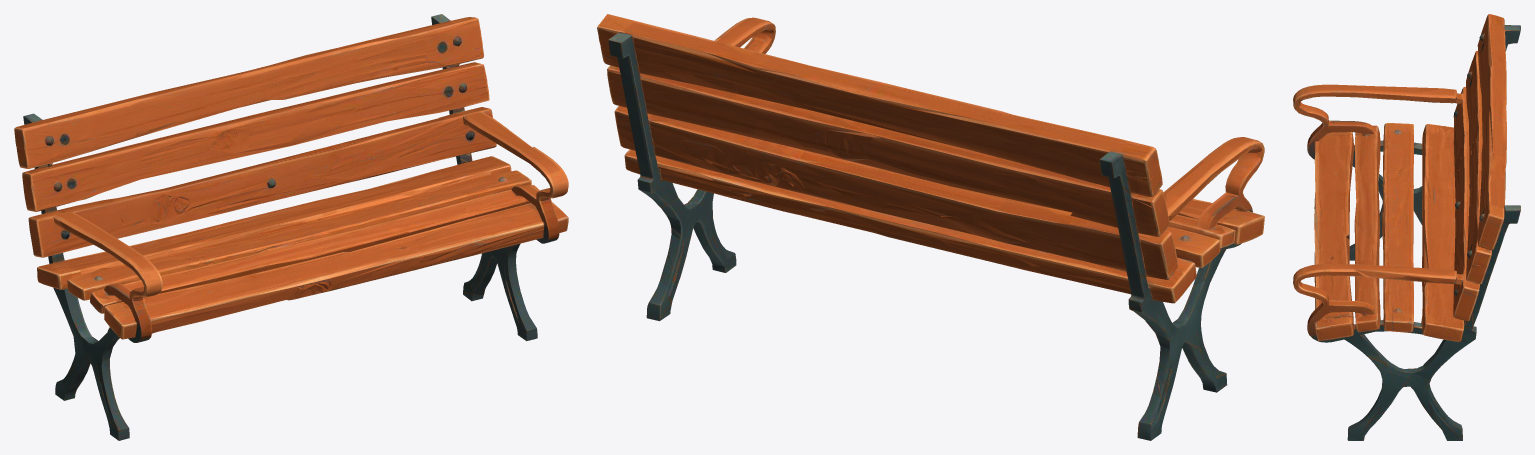
The model's file is bench.glb.
3 renders of one model, left to right at view 1: azimuth 30°, elevation 25°; view 2: azimuth 150°, elevation 25°; view 3: azimuth 270°, elevation 25°, orthographic. The views are drawn at different scales.
Bounding box in the file's own units: 1.9 × 1.03 × 0.9054.
Materials: 1 (1 with a texture image).
